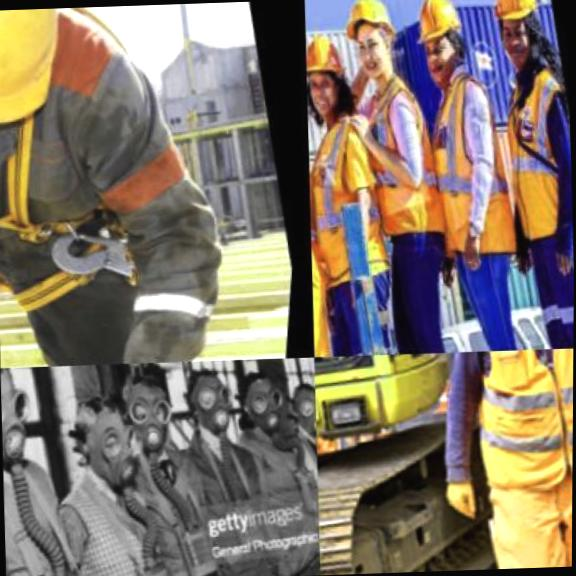safety_vest: (0, 0, 284, 366), (411, 55, 537, 270), (346, 61, 465, 251), (305, 102, 388, 356), (306, 101, 414, 293), (481, 45, 575, 259), (460, 348, 573, 506)
